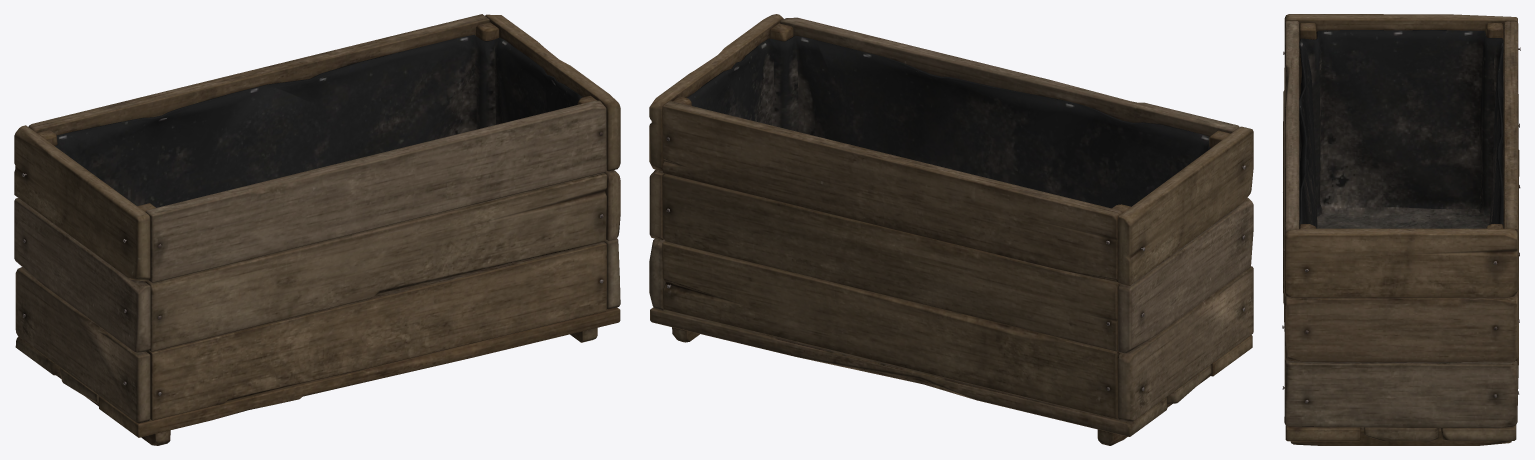
The model's file is planter_box_01.glb.
The picture shows the model from 3 angles, left to right: view 1: azimuth 30°, elevation 25°; view 2: azimuth 150°, elevation 25°; view 3: azimuth 270°, elevation 25°; orthographic projection. The views are drawn at different scales.
Visible parts, largest first — view 1: planter_box_01; view 2: planter_box_01; view 3: planter_box_01.
Part boxes in pixels (box(x1,y1,x2,y2)): planter_box_01: box(14, 14, 620, 445); planter_box_01: box(649, 14, 1253, 445); planter_box_01: box(1282, 14, 1520, 445).
Size of the model in its own units: 0.9126 by 0.425 by 0.4137.
1 material, 1 textured.
